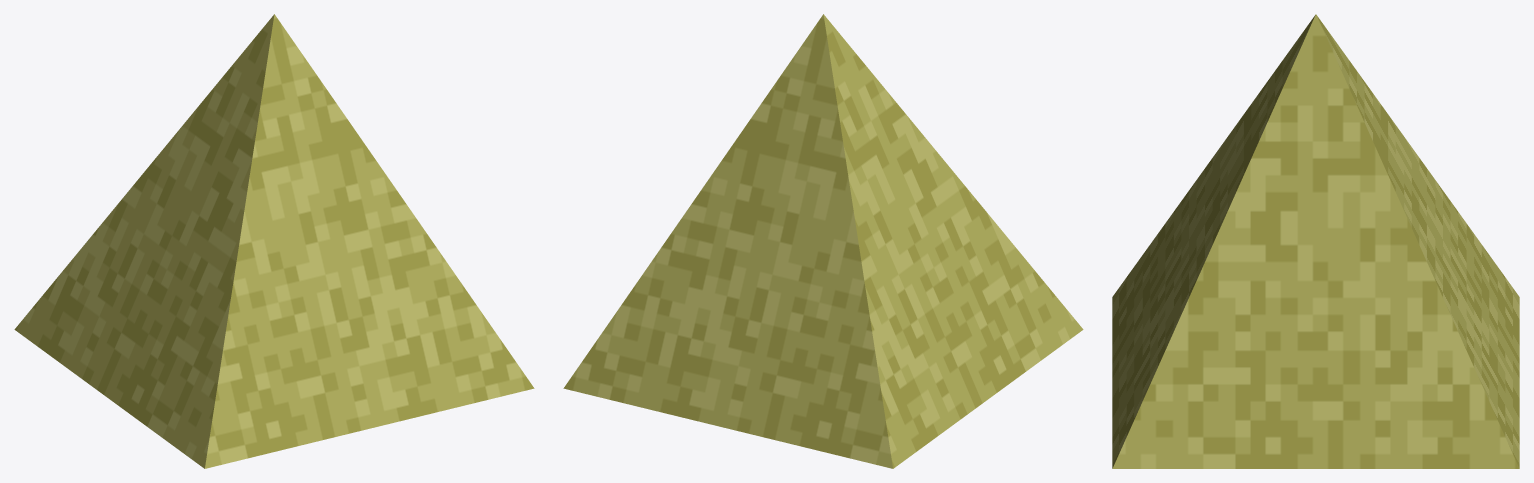
File: ArbustoEgiptoModeloA.fbx
The picture shows the model from 3 angles, left to right: view 1: azimuth 30°, elevation 25°; view 2: azimuth 150°, elevation 25°; view 3: azimuth 270°, elevation 25°; orthographic projection. The views are drawn at different scales.
Parts seen in each view (by area): view 1: ArbustoEgipcioA; view 2: ArbustoEgipcioA; view 3: ArbustoEgipcioA.
Boxes of the visible parts, x1=… form: ArbustoEgipcioA: x1=14, y1=14, x2=534, y2=468; ArbustoEgipcioA: x1=563, y1=14, x2=1083, y2=468; ArbustoEgipcioA: x1=1112, y1=14, x2=1519, y2=468.
Size of the model in its own units: 3.96 by 3.96 by 3.96.
